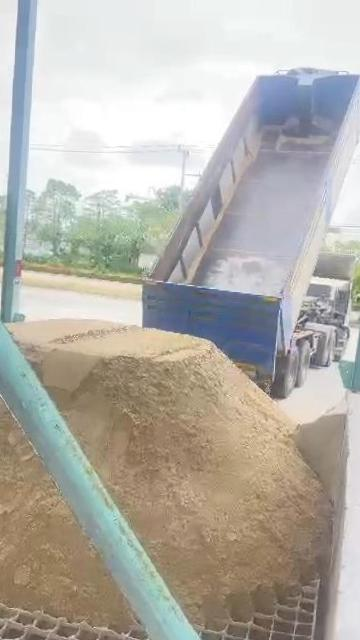sand: (11, 321, 329, 622), (0, 386, 130, 625), (294, 402, 347, 507)
